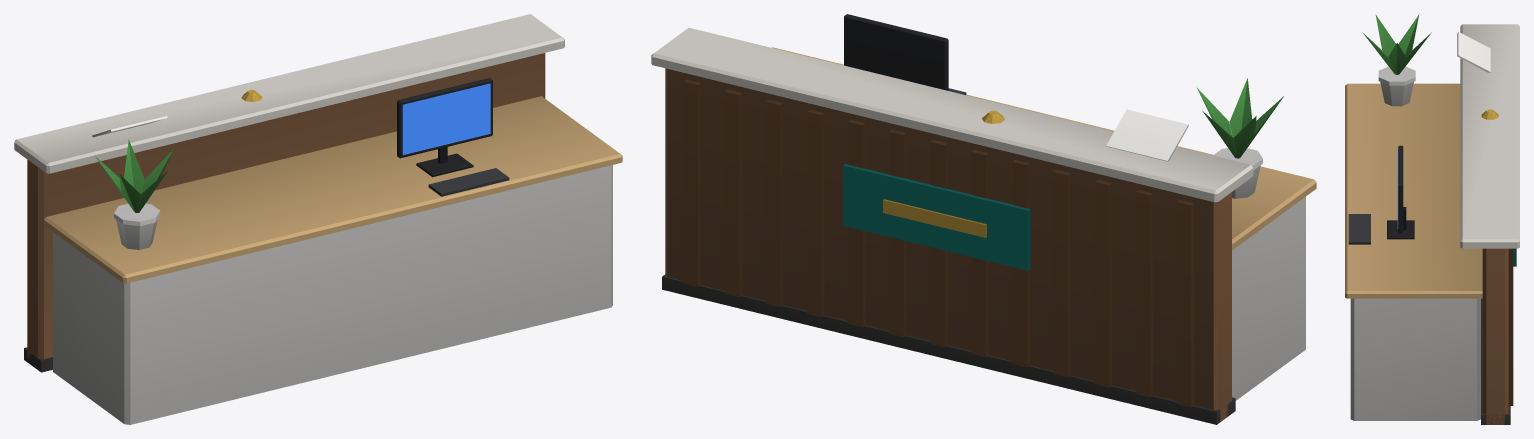
File: counter_reception_01.glb
The picture shows the model from 3 angles, left to right: view 1: azimuth 30°, elevation 25°; view 2: azimuth 150°, elevation 25°; view 3: azimuth 270°, elevation 25°; orthographic projection. The views are drawn at different scales.
Parts seen in each view (by area): view 1: counter_reception_01_mesh, counter_reception_01_screen; view 2: counter_reception_01_mesh; view 3: counter_reception_01_mesh.
Boxes of the visible parts, x1,y1,x2,y2 form: counter_reception_01_mesh: [14, 14, 622, 424]; counter_reception_01_screen: [402, 83, 490, 154]; counter_reception_01_mesh: [651, 14, 1316, 424]; counter_reception_01_mesh: [1345, 14, 1519, 424].
Size of the model in its own units: 2.76 by 1.22 by 0.94.
2 materials, 2 textured.
